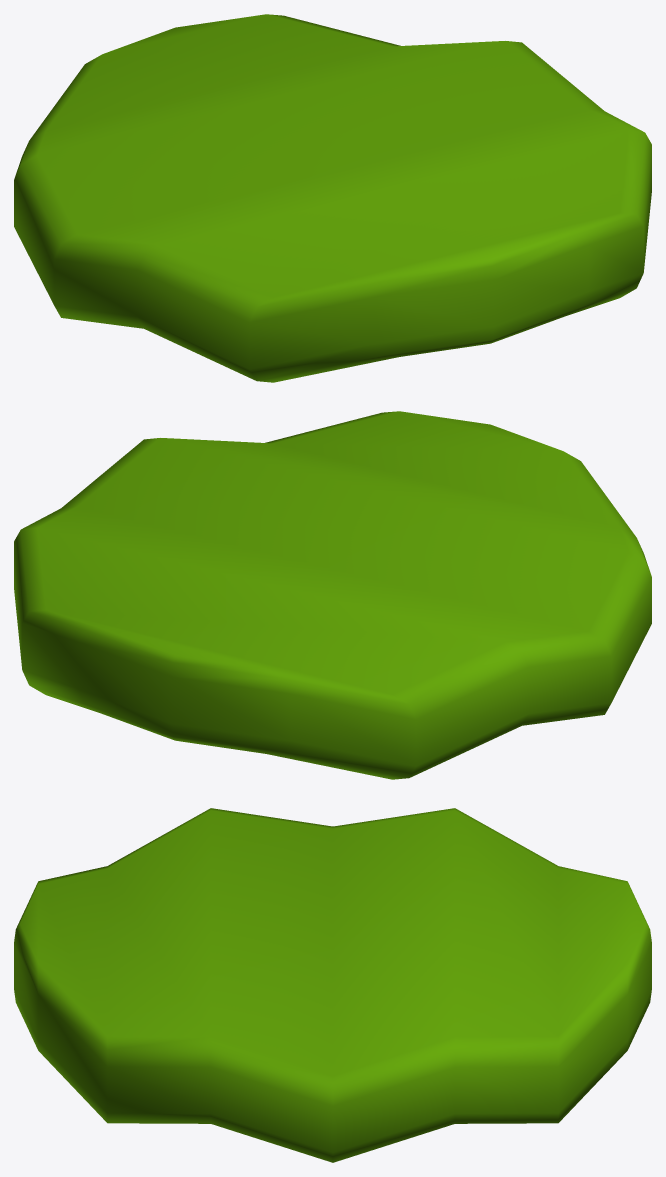
Rendered from itemNormal06.fbx.
3 views of the same model, one above another, from view 1: azimuth 30°, elevation 25°; view 2: azimuth 150°, elevation 25°; view 3: azimuth 270°, elevation 25° (orthographic).
Parts seen in each view (by area): view 1: Pickle Slice; view 2: Pickle Slice; view 3: Pickle Slice.
Boxes of the visible parts, x1,y1,x2,y2 form: Pickle Slice: (14, 14, 651, 382); Pickle Slice: (14, 411, 651, 779); Pickle Slice: (14, 808, 651, 1162).
Size of the model in its own units: 30.68 by 6.01 by 30.68.
